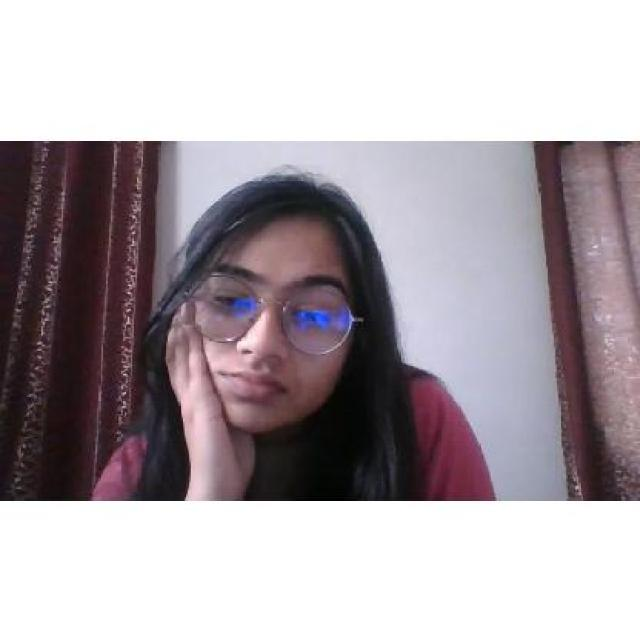attentif: (193, 174, 364, 434)
